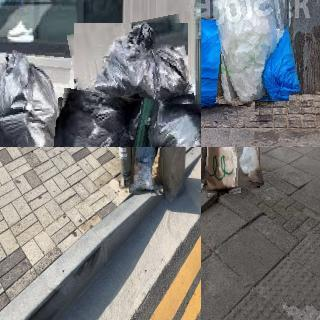Garbage: (70, 18, 192, 117), (213, 0, 294, 103), (0, 43, 68, 147), (201, 14, 257, 120), (52, 90, 137, 147), (118, 99, 201, 147), (205, 147, 242, 193), (131, 147, 164, 196), (235, 147, 262, 188)
